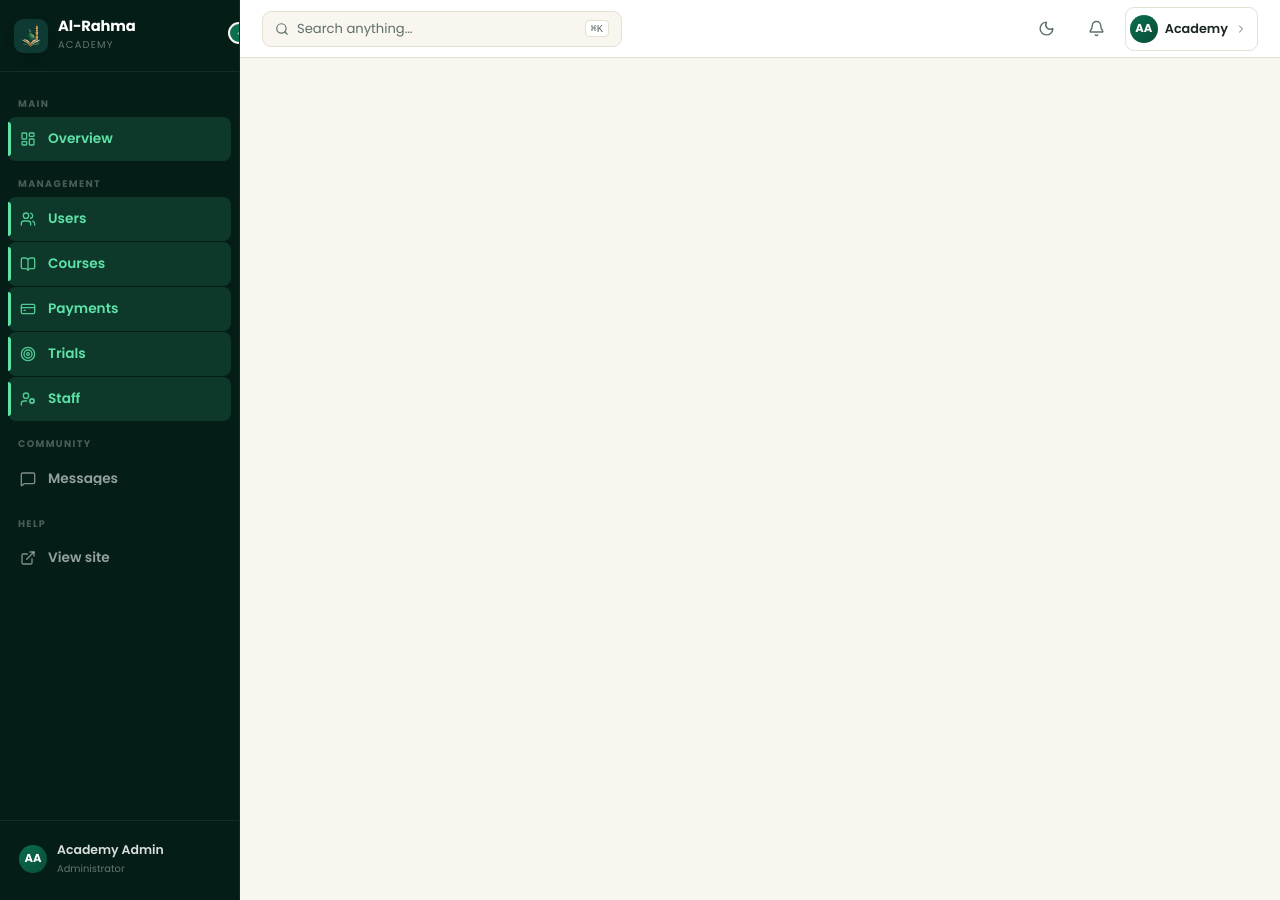
Scenario: dashboard shell › with both sessions, shows the admin account, not the regular one
Expected: the text "Academy Admin" is shown, [57,840,164,861]
Step 1. Click the button with aria-label "user menu" → (1191, 28), box [1125,6,1258,50]
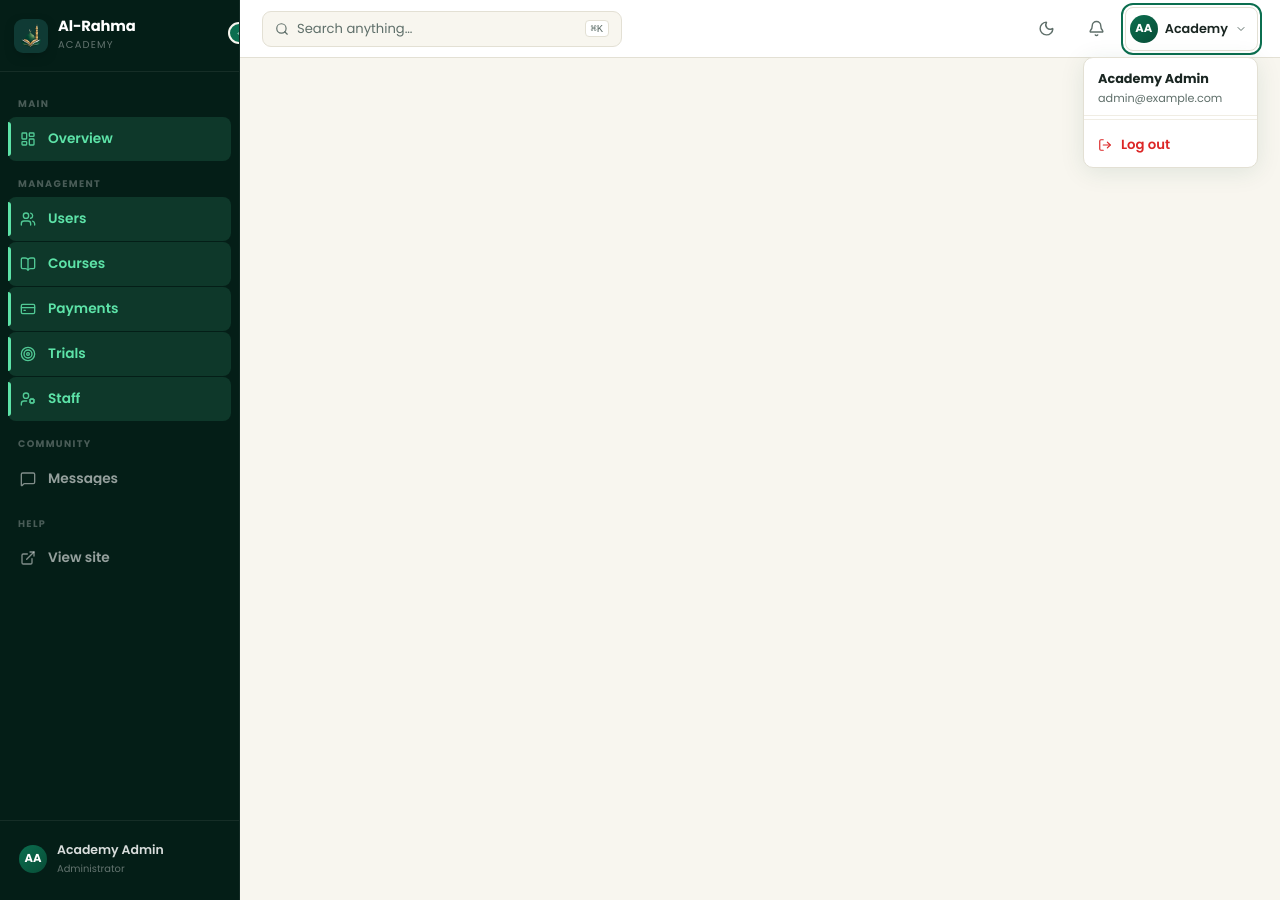
Expected: the text "admin@example.com" is shown, [1098,89,1243,107]
